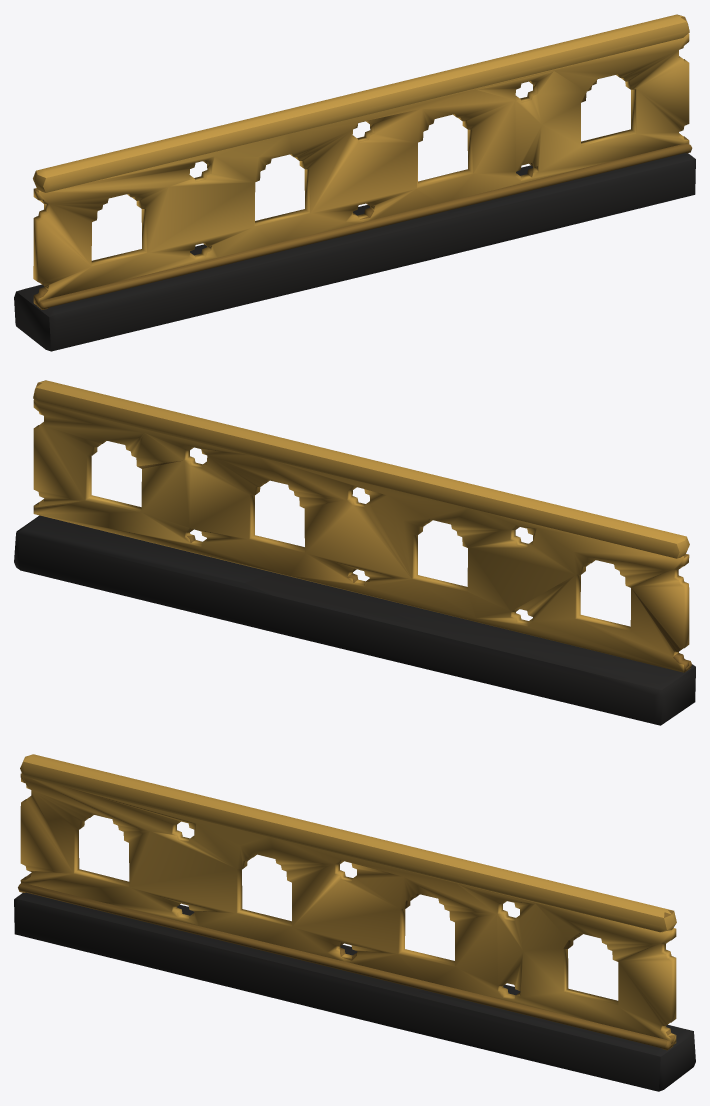
Rendered from ember_fender_lod2.glb.
3 views of the same model, one above another, from view 1: azimuth 30°, elevation 25°; view 2: azimuth 150°, elevation 25°; view 3: azimuth 330°, elevation 25° (orthographic).
Parts seen in each view (by area): view 1: ember_fender.001; view 2: ember_fender.001; view 3: ember_fender.001.
Boxes of the visible parts, bbox=[...] form: ember_fender.001: bbox=[14, 14, 695, 351]; ember_fender.001: bbox=[14, 380, 695, 725]; ember_fender.001: bbox=[14, 754, 695, 1091].
Size of the model in its own units: 40.09 by 10.22 by 4.
